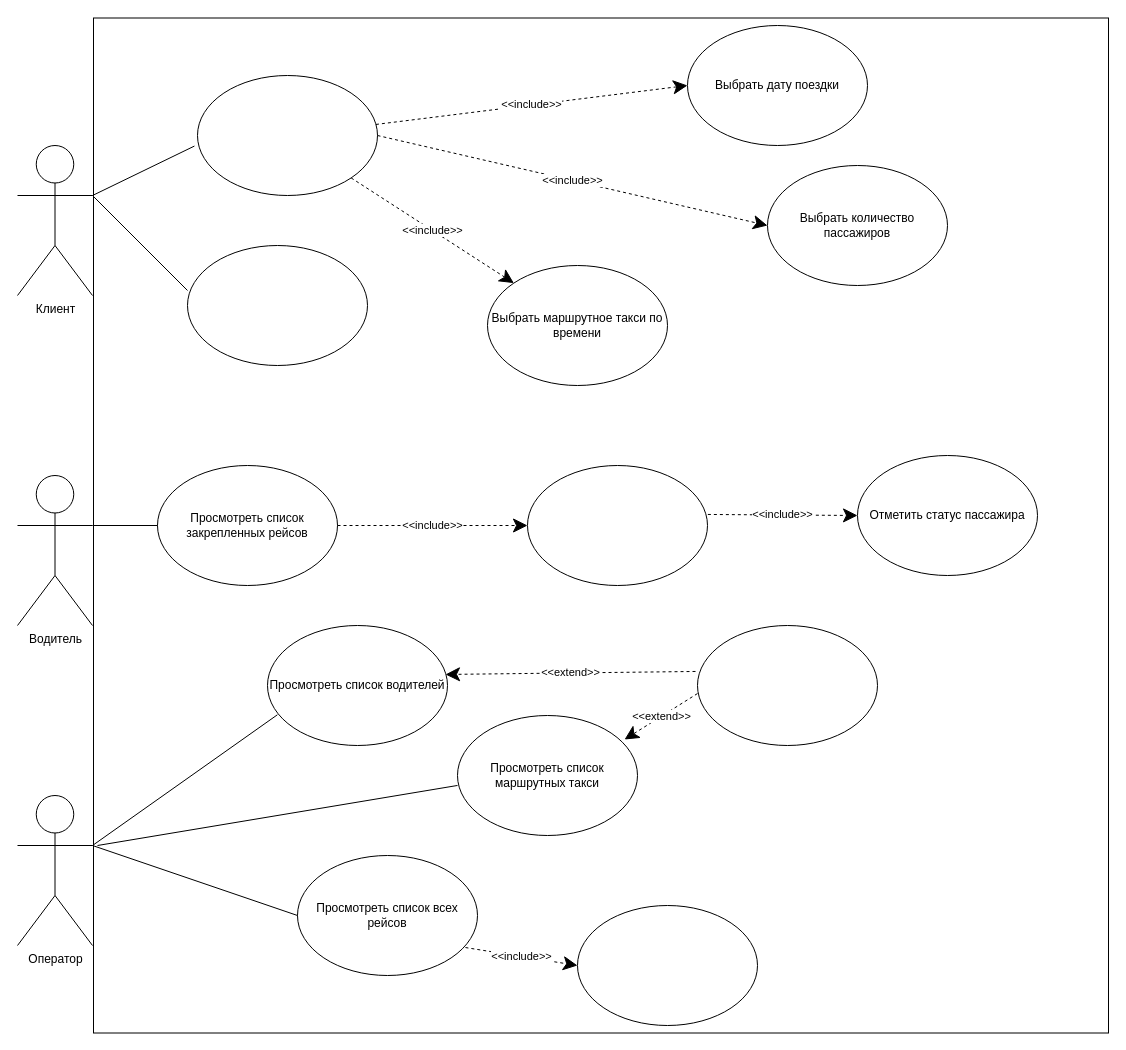
This 1126x1050 diagram has some shape labels left out. Here are the shapes that lost their labels. From the top down, the centre of each, then its label:
At pixel 287 135: "Выбрать маршрут поездки".
At pixel 277 305: "Просмотреть действующие заказы".
At pixel 617 525: "Просмотреть список пассажиров".
At pixel 787 685: "Закрепить водителя за маршрутным такси".
At pixel 667 965: "Управлять рейсами".
